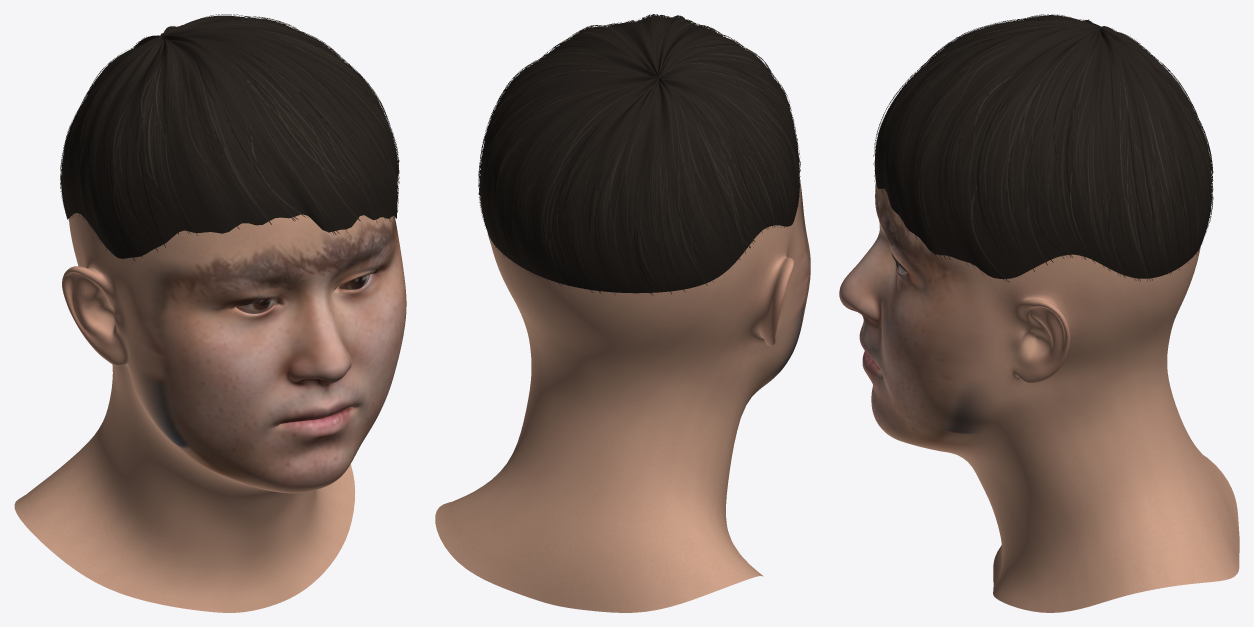
File: harimoto.glb
3 renders of one model, left to right at view 1: azimuth 30°, elevation 25°; view 2: azimuth 150°, elevation 25°; view 3: azimuth 270°, elevation 25°, orthographic. The views are drawn at different scales.
Parts seen in each view (by area): view 1: 张本智和 · 多角度拟合头模, 发型外层 · 侧鬓修短与斜碎刘海, 碎发与发流; view 2: 张本智和 · 多角度拟合头模, 发型外层 · 侧鬓修短与斜碎刘海, 碎发与发流; view 3: 张本智和 · 多角度拟合头模, 发型外层 · 侧鬓修短与斜碎刘海, 碎发与发流.
Part boxes in pixels (x1,y1,x2,y2): 张本智和 · 多角度拟合头模: (14,213,406,612); 发型外层 · 侧鬓修短与斜碎刘海: (61,15,397,258); 碎发与发流: (60,14,399,260); 张本智和 · 多角度拟合头模: (435,178,810,612); 发型外层 · 侧鬓修短与斜碎刘海: (480,16,799,293); 碎发与发流: (478,14,800,295); 张本智和 · 多角度拟合头模: (839,181,1239,612); 发型外层 · 侧鬓修短与斜碎刘海: (874,15,1211,278); 碎发与发流: (873,14,1213,282).
Size of the model in its own units: 0.1818 by 0.3076 by 0.2028.
Materials: 7 (1 with a texture image).
